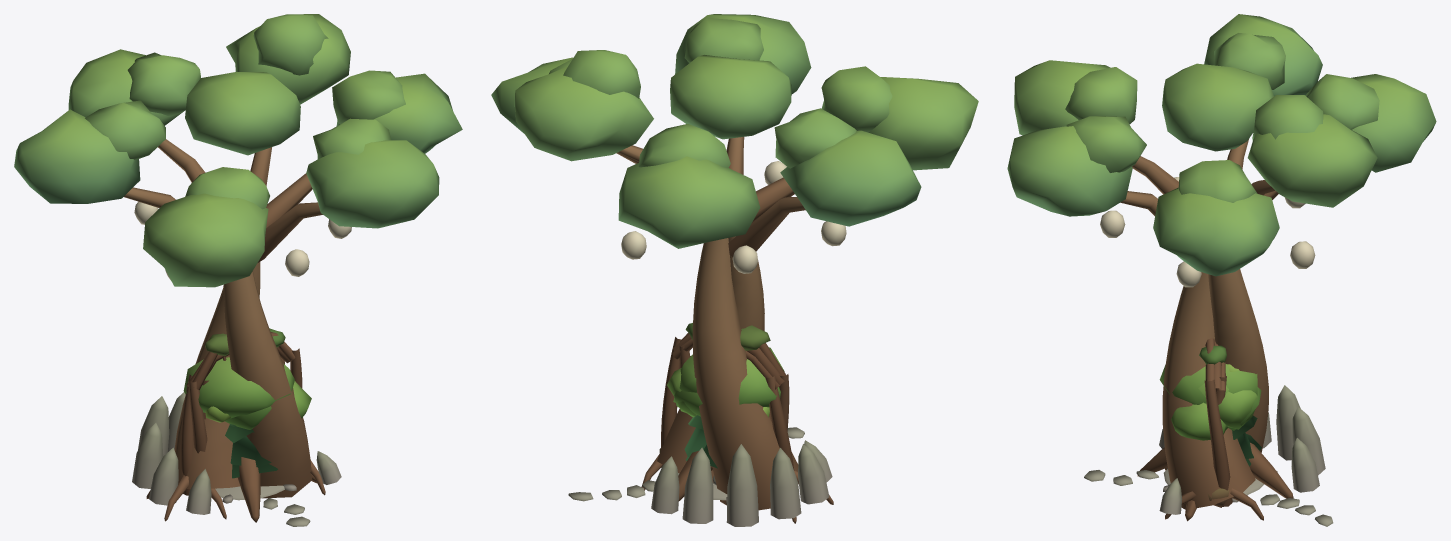
File: tomori-world-kit.glb
3 views of the same model, side by side, from view 1: azimuth 30°, elevation 25°; view 2: azimuth 150°, elevation 25°; view 3: azimuth 270°, elevation 25° (orthographic). The views are drawn at different scales.
Visible parts, largest first — view 1: WordTree, Shrine, Tree_Round_B, RootGate_Left, RootGate_Top, Tree_Round_A, Tree_Tall_B, RootGate_Right, Tree_Tall_A, WordTree_Fruit_02; view 2: WordTree, Shrine, Tree_Round_B, RootGate_Top, RootGate_Left, RootGate_Right, WordTree_Fruit_05, WordTree_Fruit_04; view 3: WordTree, Shrine, Tree_Round_B, RootGate_Right, Tree_Round_A, RootGate_Top, WordTree_Fruit_02, WordTree_Fruit_05.
Part boxes in pixels (box(x1,y1,x2,y2)): WordTree: box(14, 14, 462, 522); Shrine: box(132, 392, 341, 526); Tree_Round_B: box(183, 357, 294, 422); RootGate_Left: box(146, 374, 226, 521); RootGate_Top: box(186, 328, 295, 389); Tree_Round_A: box(225, 364, 311, 429); Tree_Tall_B: box(230, 424, 271, 467); RootGate_Right: box(281, 348, 325, 495); Tree_Tall_A: box(225, 424, 277, 478); WordTree_Fruit_02: box(285, 249, 309, 276); WordTree: box(491, 14, 978, 510); Shrine: box(568, 427, 832, 526); Tree_Round_B: box(667, 347, 784, 416); RootGate_Top: box(672, 323, 786, 389); RootGate_Left: box(765, 374, 833, 523); RootGate_Right: box(641, 337, 690, 490); WordTree_Fruit_05: box(621, 231, 646, 259); WordTree_Fruit_04: box(732, 245, 757, 273); WordTree: box(1007, 14, 1436, 521); Shrine: box(1084, 385, 1333, 526); Tree_Round_B: box(1159, 364, 1257, 429); RootGate_Right: box(1165, 376, 1263, 520); Tree_Round_A: box(1171, 364, 1261, 440); RootGate_Top: box(1199, 338, 1226, 391); WordTree_Fruit_02: box(1100, 210, 1125, 237); WordTree_Fruit_05: box(1290, 241, 1315, 268).
Size of the model in its own units: 11.74 by 11.57 by 10.37.
